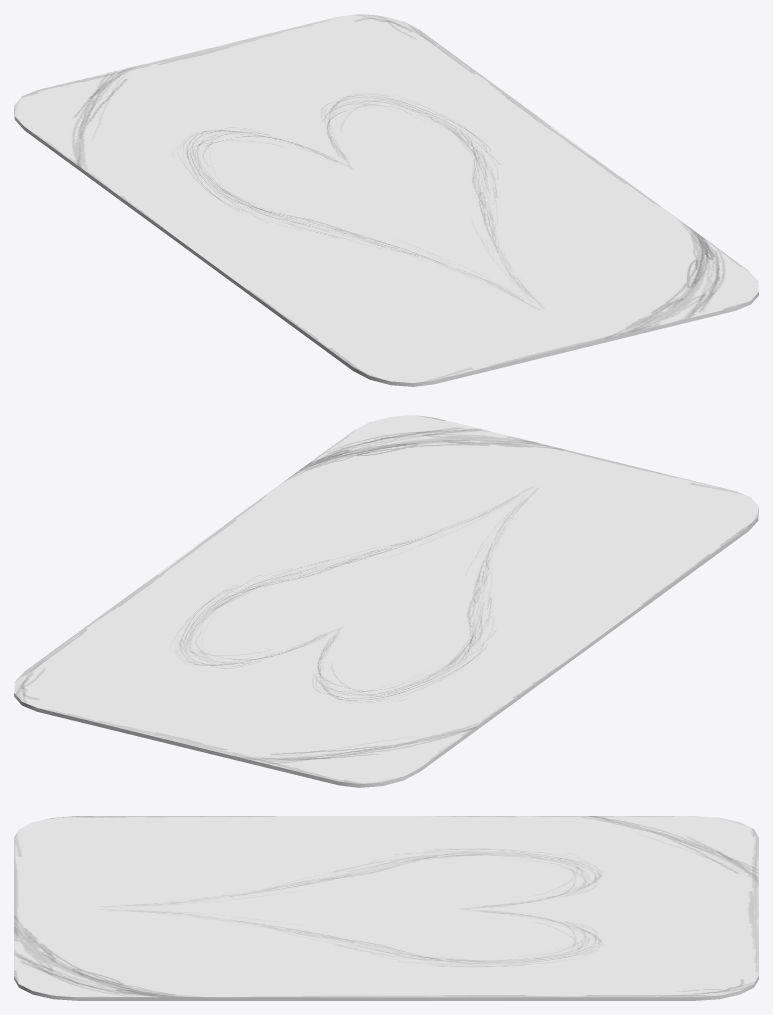
File: carta lal.fbx
3 renders of one model, top to bottom at view 1: azimuth 30°, elevation 25°; view 2: azimuth 150°, elevation 25°; view 3: azimuth 270°, elevation 25°, orthographic. The views are drawn at different scales.
Visible parts, largest first — view 1: Plane.007; view 2: Plane.007; view 3: Plane.007.
Boxes of the visible parts, x1=… form: Plane.007: x1=14, y1=14, x2=758, y2=386; Plane.007: x1=14, y1=415, x2=758, y2=787; Plane.007: x1=14, y1=816, x2=758, y2=1000.
Size of the model in its own units: 115 by 1.05 by 200.
2 materials, 2 textured.
